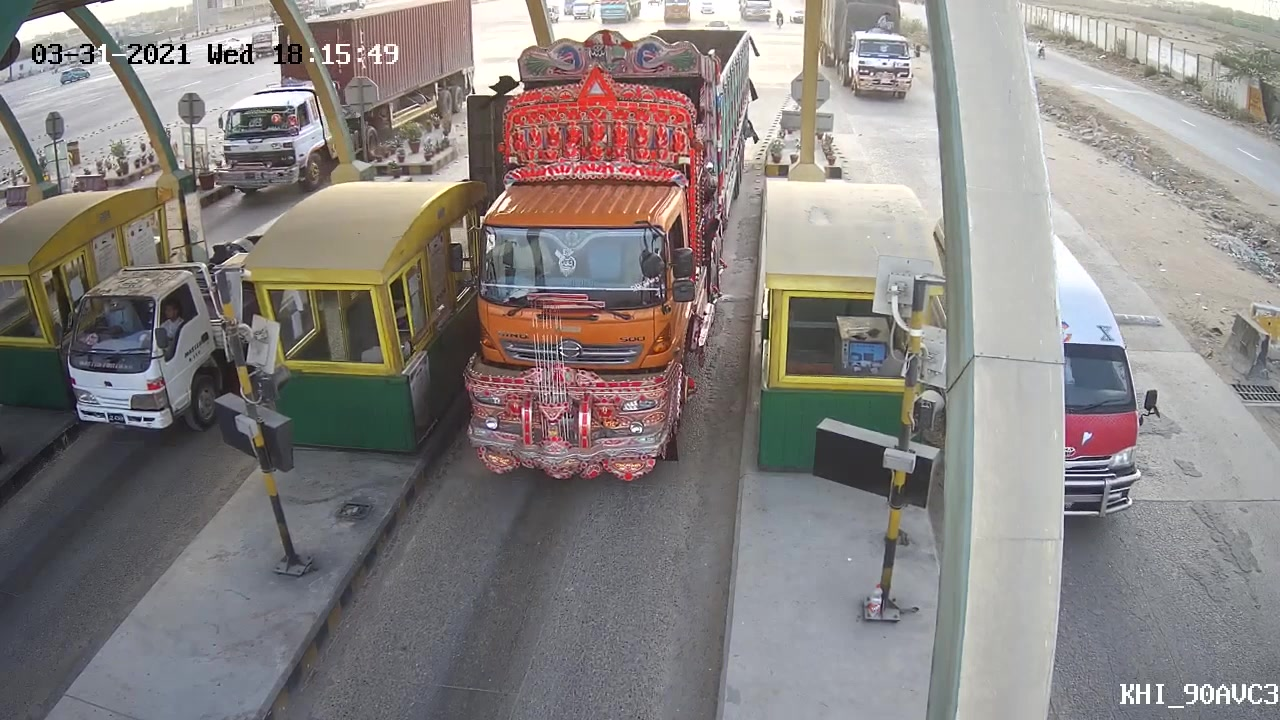F6: (441, 23, 755, 484)
